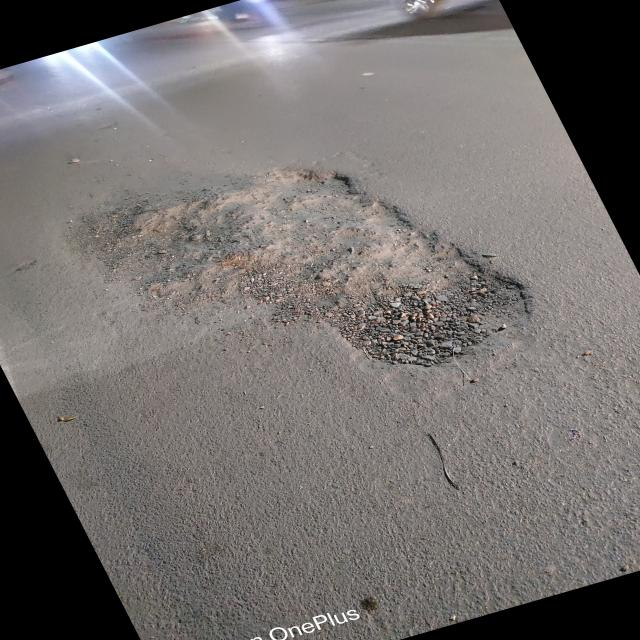potholes: (61, 171, 540, 372)
